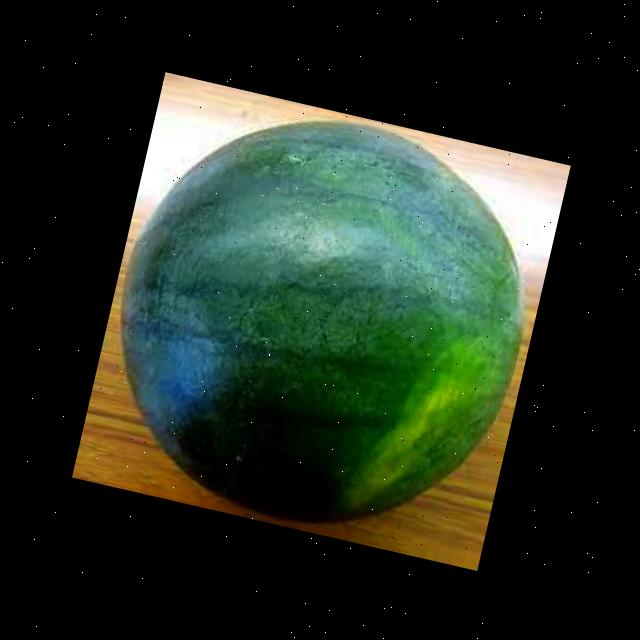watermelon: (79, 78, 561, 560)
